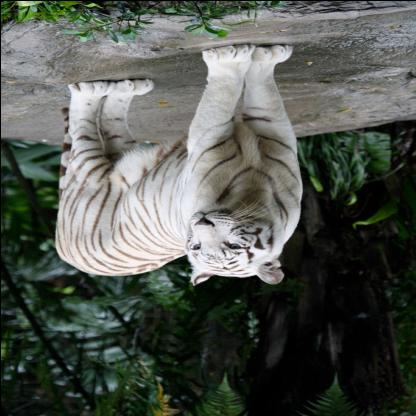tiger: (164, 192, 294, 290)
